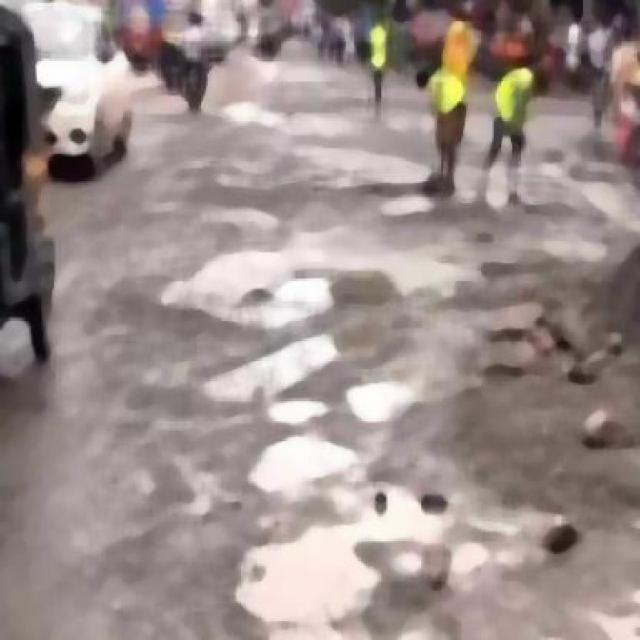Pothole: (356, 432, 549, 578), (244, 518, 382, 638)
